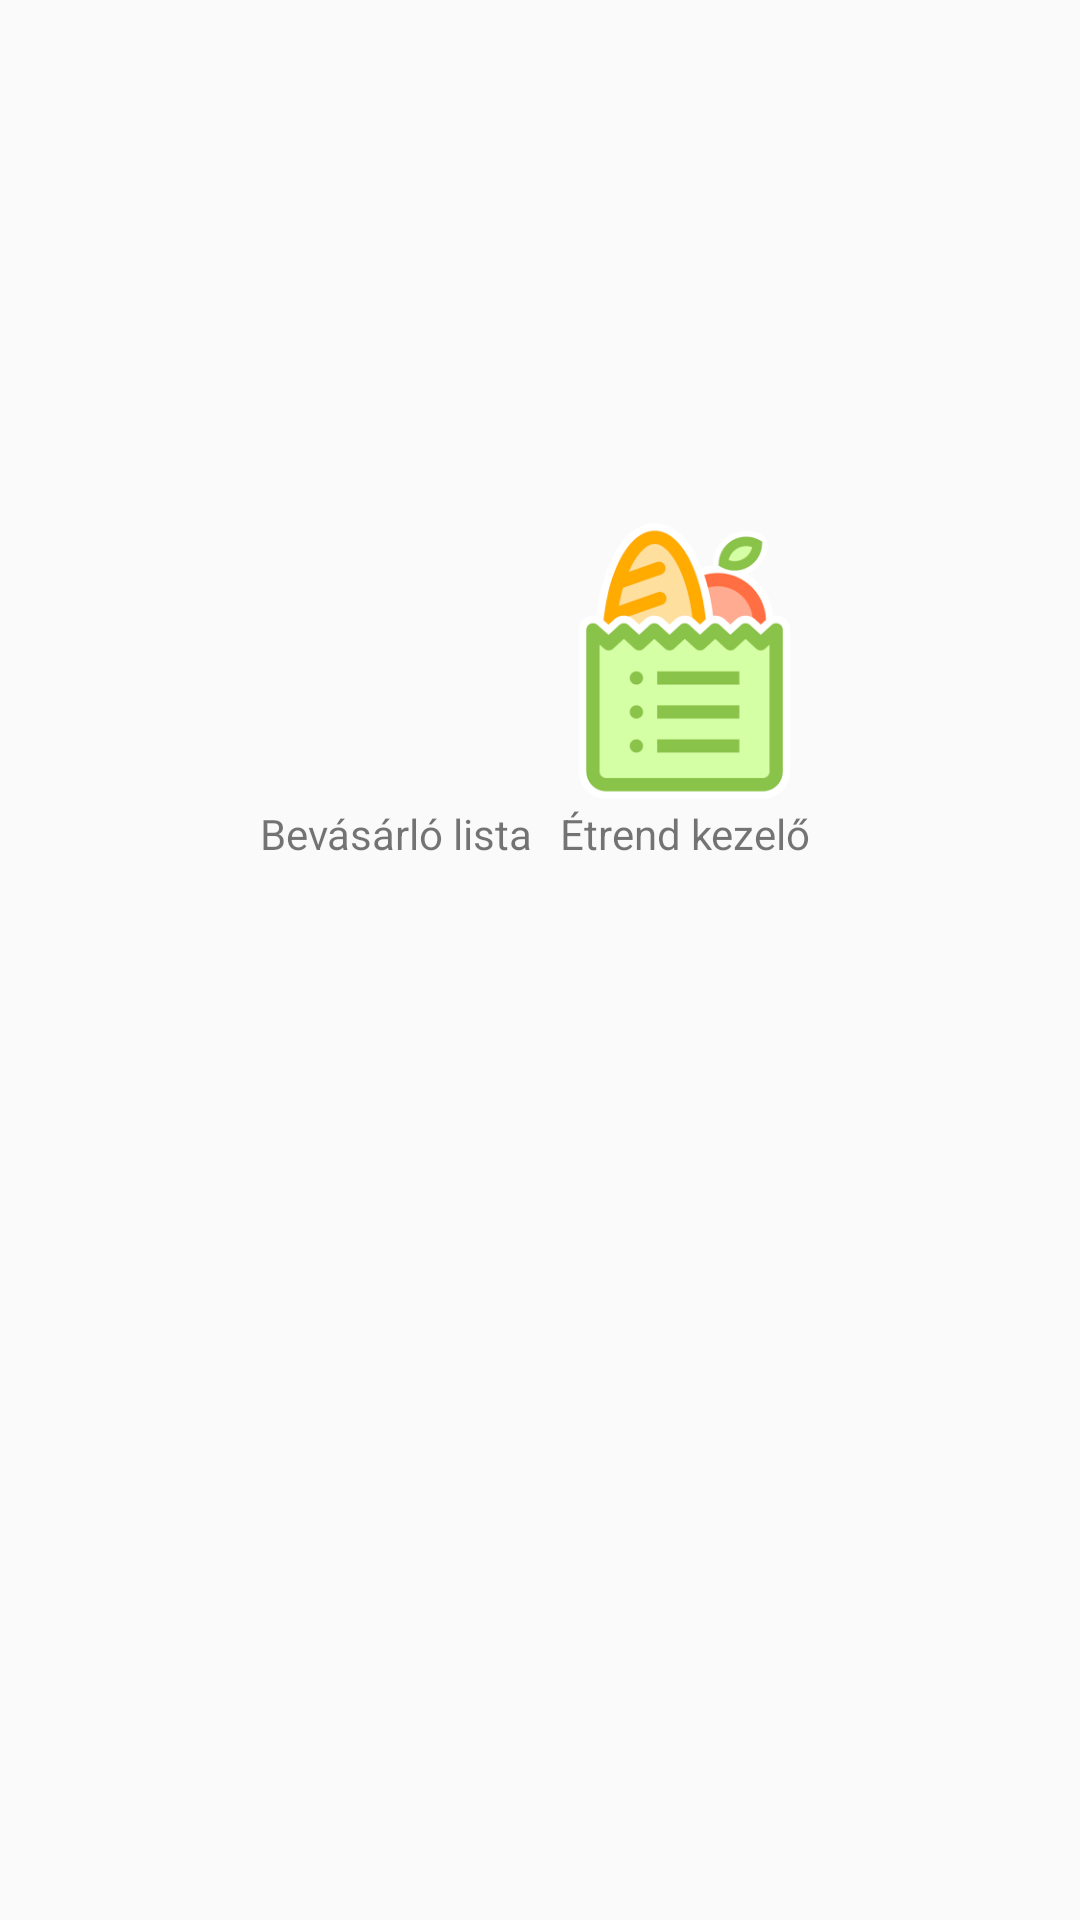

Icon click points for this 1080*1920 phone screenshot, format (x,y):
shopping list: (684,661)
